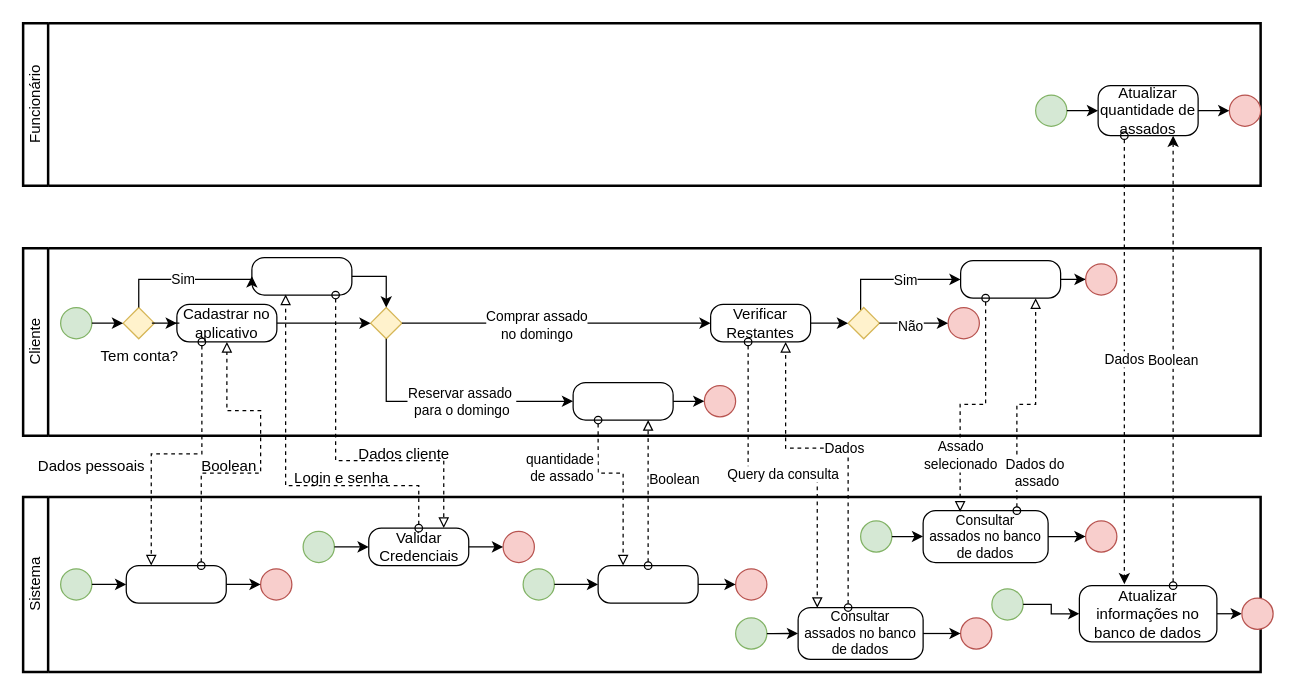
Some shapes in this 1295 by 694 pixel diagram are drawn without their labels. Here are the shapes that lost their labels. From the top down, the centre of each, then its label:
At (301,275): "Logar no aplicativo".
At (1010,278): "Confirmar Pedido".
At (863,322): "Sobrou assado?".
At (622,400): "Reservar Assado".
At (175,583): "Registrar Cliente".
At (647,583): "Fazer Reserva".
